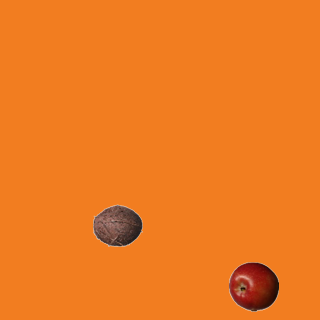Apple Braeburn: (228, 261, 278, 311)
Cocos: (92, 200, 142, 250)
